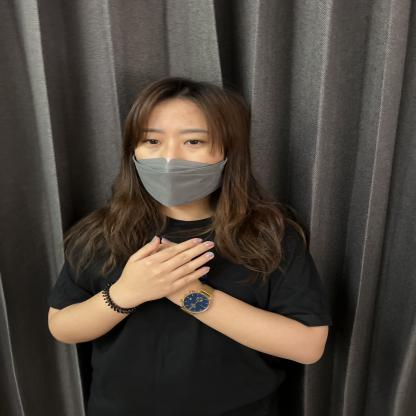Grieve: (35, 207, 270, 342)
